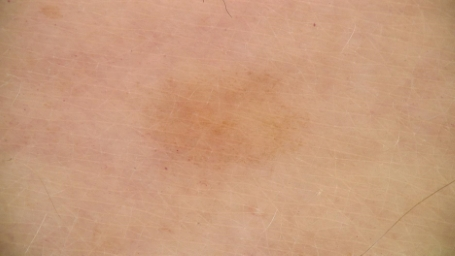melanoma: (148, 76, 299, 161)
